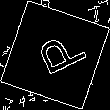P_SW: (24, 27, 86, 83)
